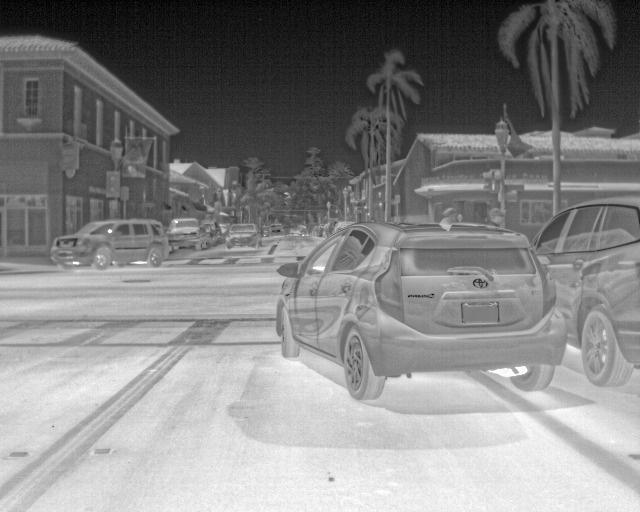bicycle: (276, 217, 572, 398), (534, 191, 636, 387), (50, 217, 172, 272), (169, 216, 207, 253), (224, 220, 262, 252)
